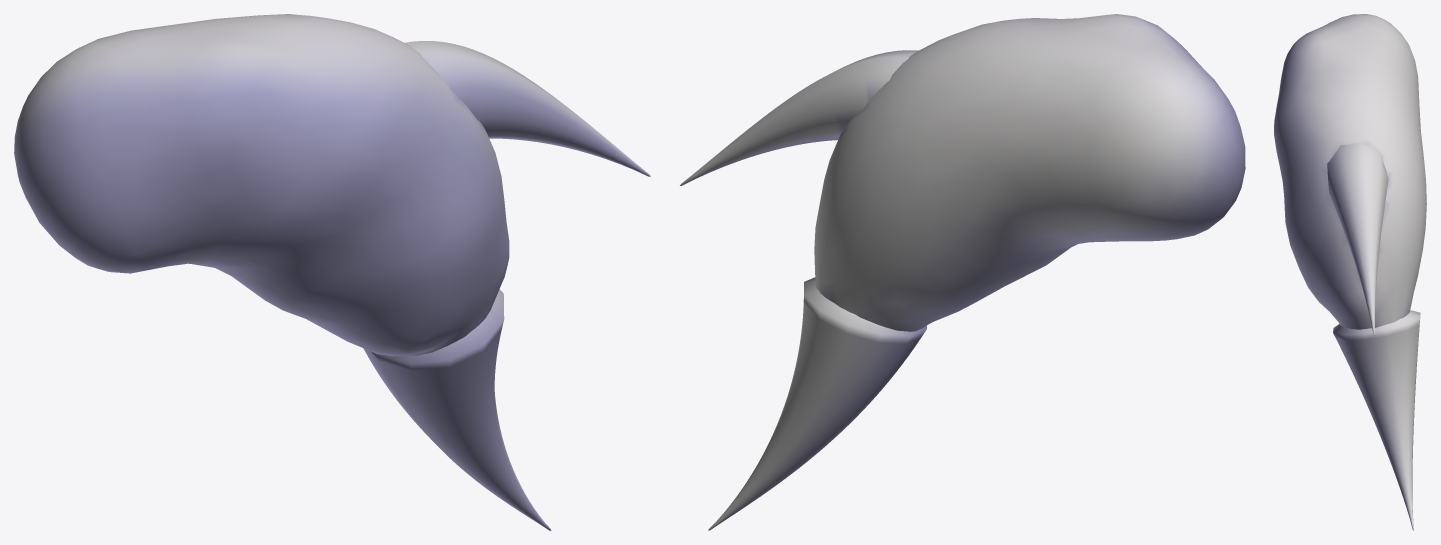
Rendered from gear5_lateral_dir.fbx.
3 views of the same model, side by side, from view 1: azimuth 30°, elevation 25°; view 2: azimuth 150°, elevation 25°; view 3: azimuth 270°, elevation 25° (orthographic). The views are drawn at different scales.
Visible parts, largest first — view 1: gear5_lateral_dir; view 2: gear5_lateral_dir; view 3: gear5_lateral_dir.
Part boxes in pixels (x1=…): gear5_lateral_dir: x1=14, y1=14, x2=650, y2=530; gear5_lateral_dir: x1=680, y1=14, x2=1245, y2=530; gear5_lateral_dir: x1=1274, y1=14, x2=1426, y2=530.
Bounding box in the file's own units: 2.51 × 2.41 × 0.8827.
